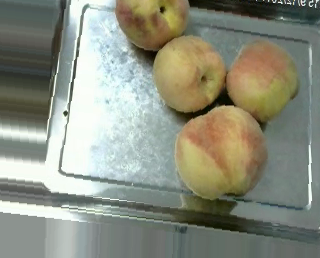Peach: (175, 104, 268, 200), (224, 37, 298, 122), (152, 34, 225, 112), (112, 0, 191, 49)
